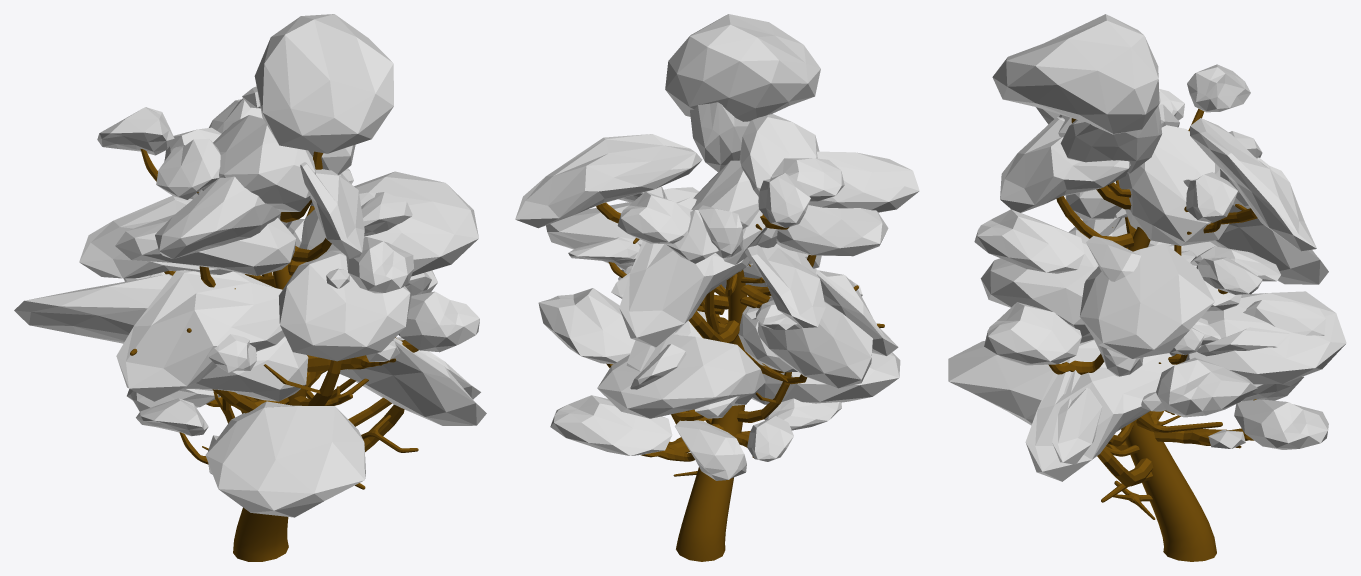
File: tree 1.fbx
The picture shows the model from 3 angles, left to right: view 1: azimuth 30°, elevation 25°; view 2: azimuth 150°, elevation 25°; view 3: azimuth 270°, elevation 25°; orthographic projection. The views are drawn at different scales.
Visible parts, largest first — view 1: Tree set 1.003, Tree set 1.024; view 2: Tree set 1.003, Tree set 1.024; view 3: Tree set 1.003, Tree set 1.024.
Part boxes in pixels (box(x1,y1,x2,y2)): Tree set 1.003: box(14, 14, 486, 517); Tree set 1.024: box(130, 149, 418, 561); Tree set 1.003: box(515, 14, 919, 480); Tree set 1.024: box(596, 202, 884, 561); Tree set 1.003: box(948, 14, 1346, 481); Tree set 1.024: box(1048, 108, 1257, 561).
Bounding box in the file's own units: 458 × 601 × 403.
